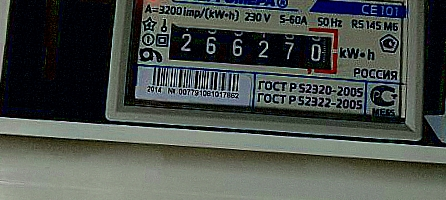0: (308, 41, 323, 62)
2: (177, 32, 194, 53), (255, 38, 271, 59)
6: (203, 34, 218, 56), (230, 37, 245, 58)
7: (281, 40, 295, 60)
screen: (158, 12, 346, 80)
